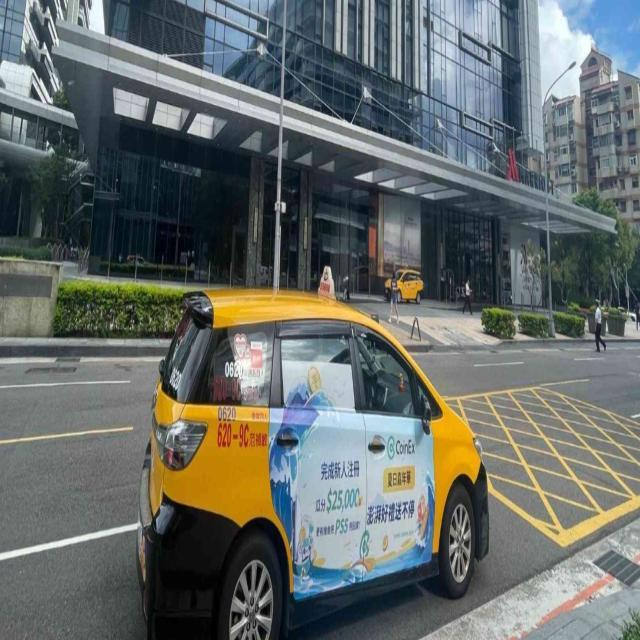taxi: (133, 263, 511, 640), (376, 246, 433, 308)
